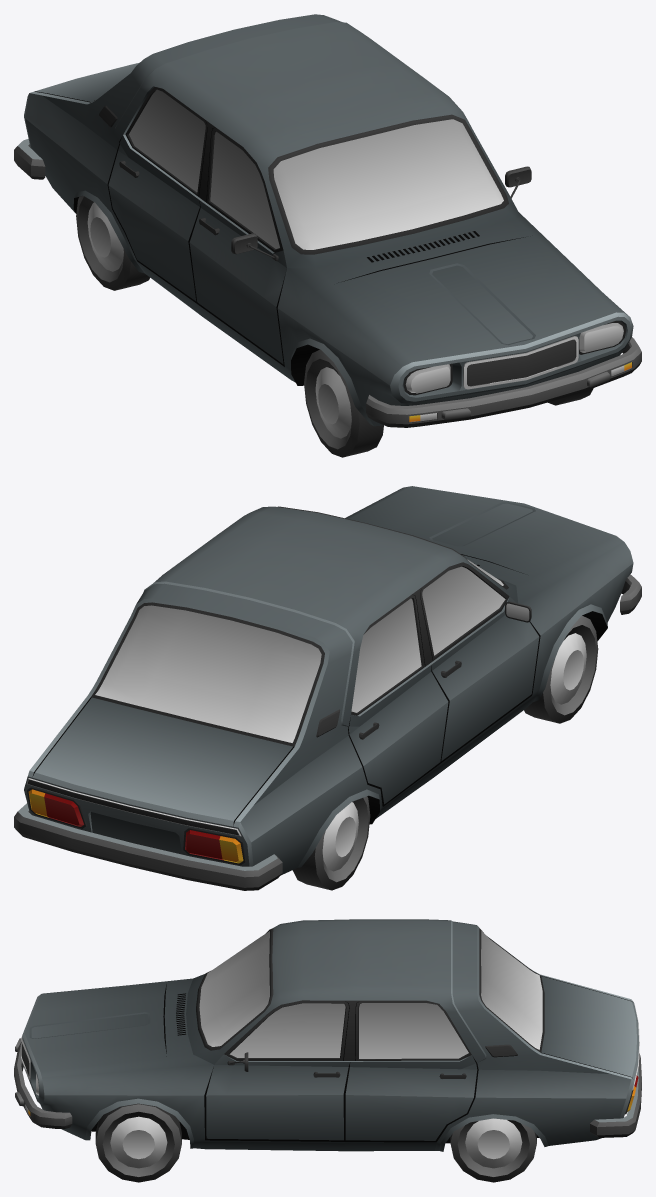
The model's file is VEHICLE - RENAULT 12.fbx.
3 views of the same model, one above another, from view 1: azimuth 30°, elevation 25°; view 2: azimuth 150°, elevation 25°; view 3: azimuth 270°, elevation 25° (orthographic). The views are drawn at different scales.
Visible parts, largest first — view 1: Body, FRW, BLW.004; view 2: Body, FRW, BLW.004; view 3: Body, FLW, RLW.
Part boxes in pixels (<box>): Body: <box>14,14,641,427</box>; FRW: <box>304,349,383,457</box>; BLW.004: <box>76,196,149,290</box>; Body: <box>14,486,641,890</box>; FRW: <box>524,615,598,723</box>; BLW.004: <box>292,796,370,890</box>; Body: <box>14,919,641,1151</box>; FLW: <box>95,1103,181,1182</box>; RLW: <box>450,1118,536,1182</box>.
Size of the model in its own units: 249 by 191 by 580.
1 material, 1 textured.
